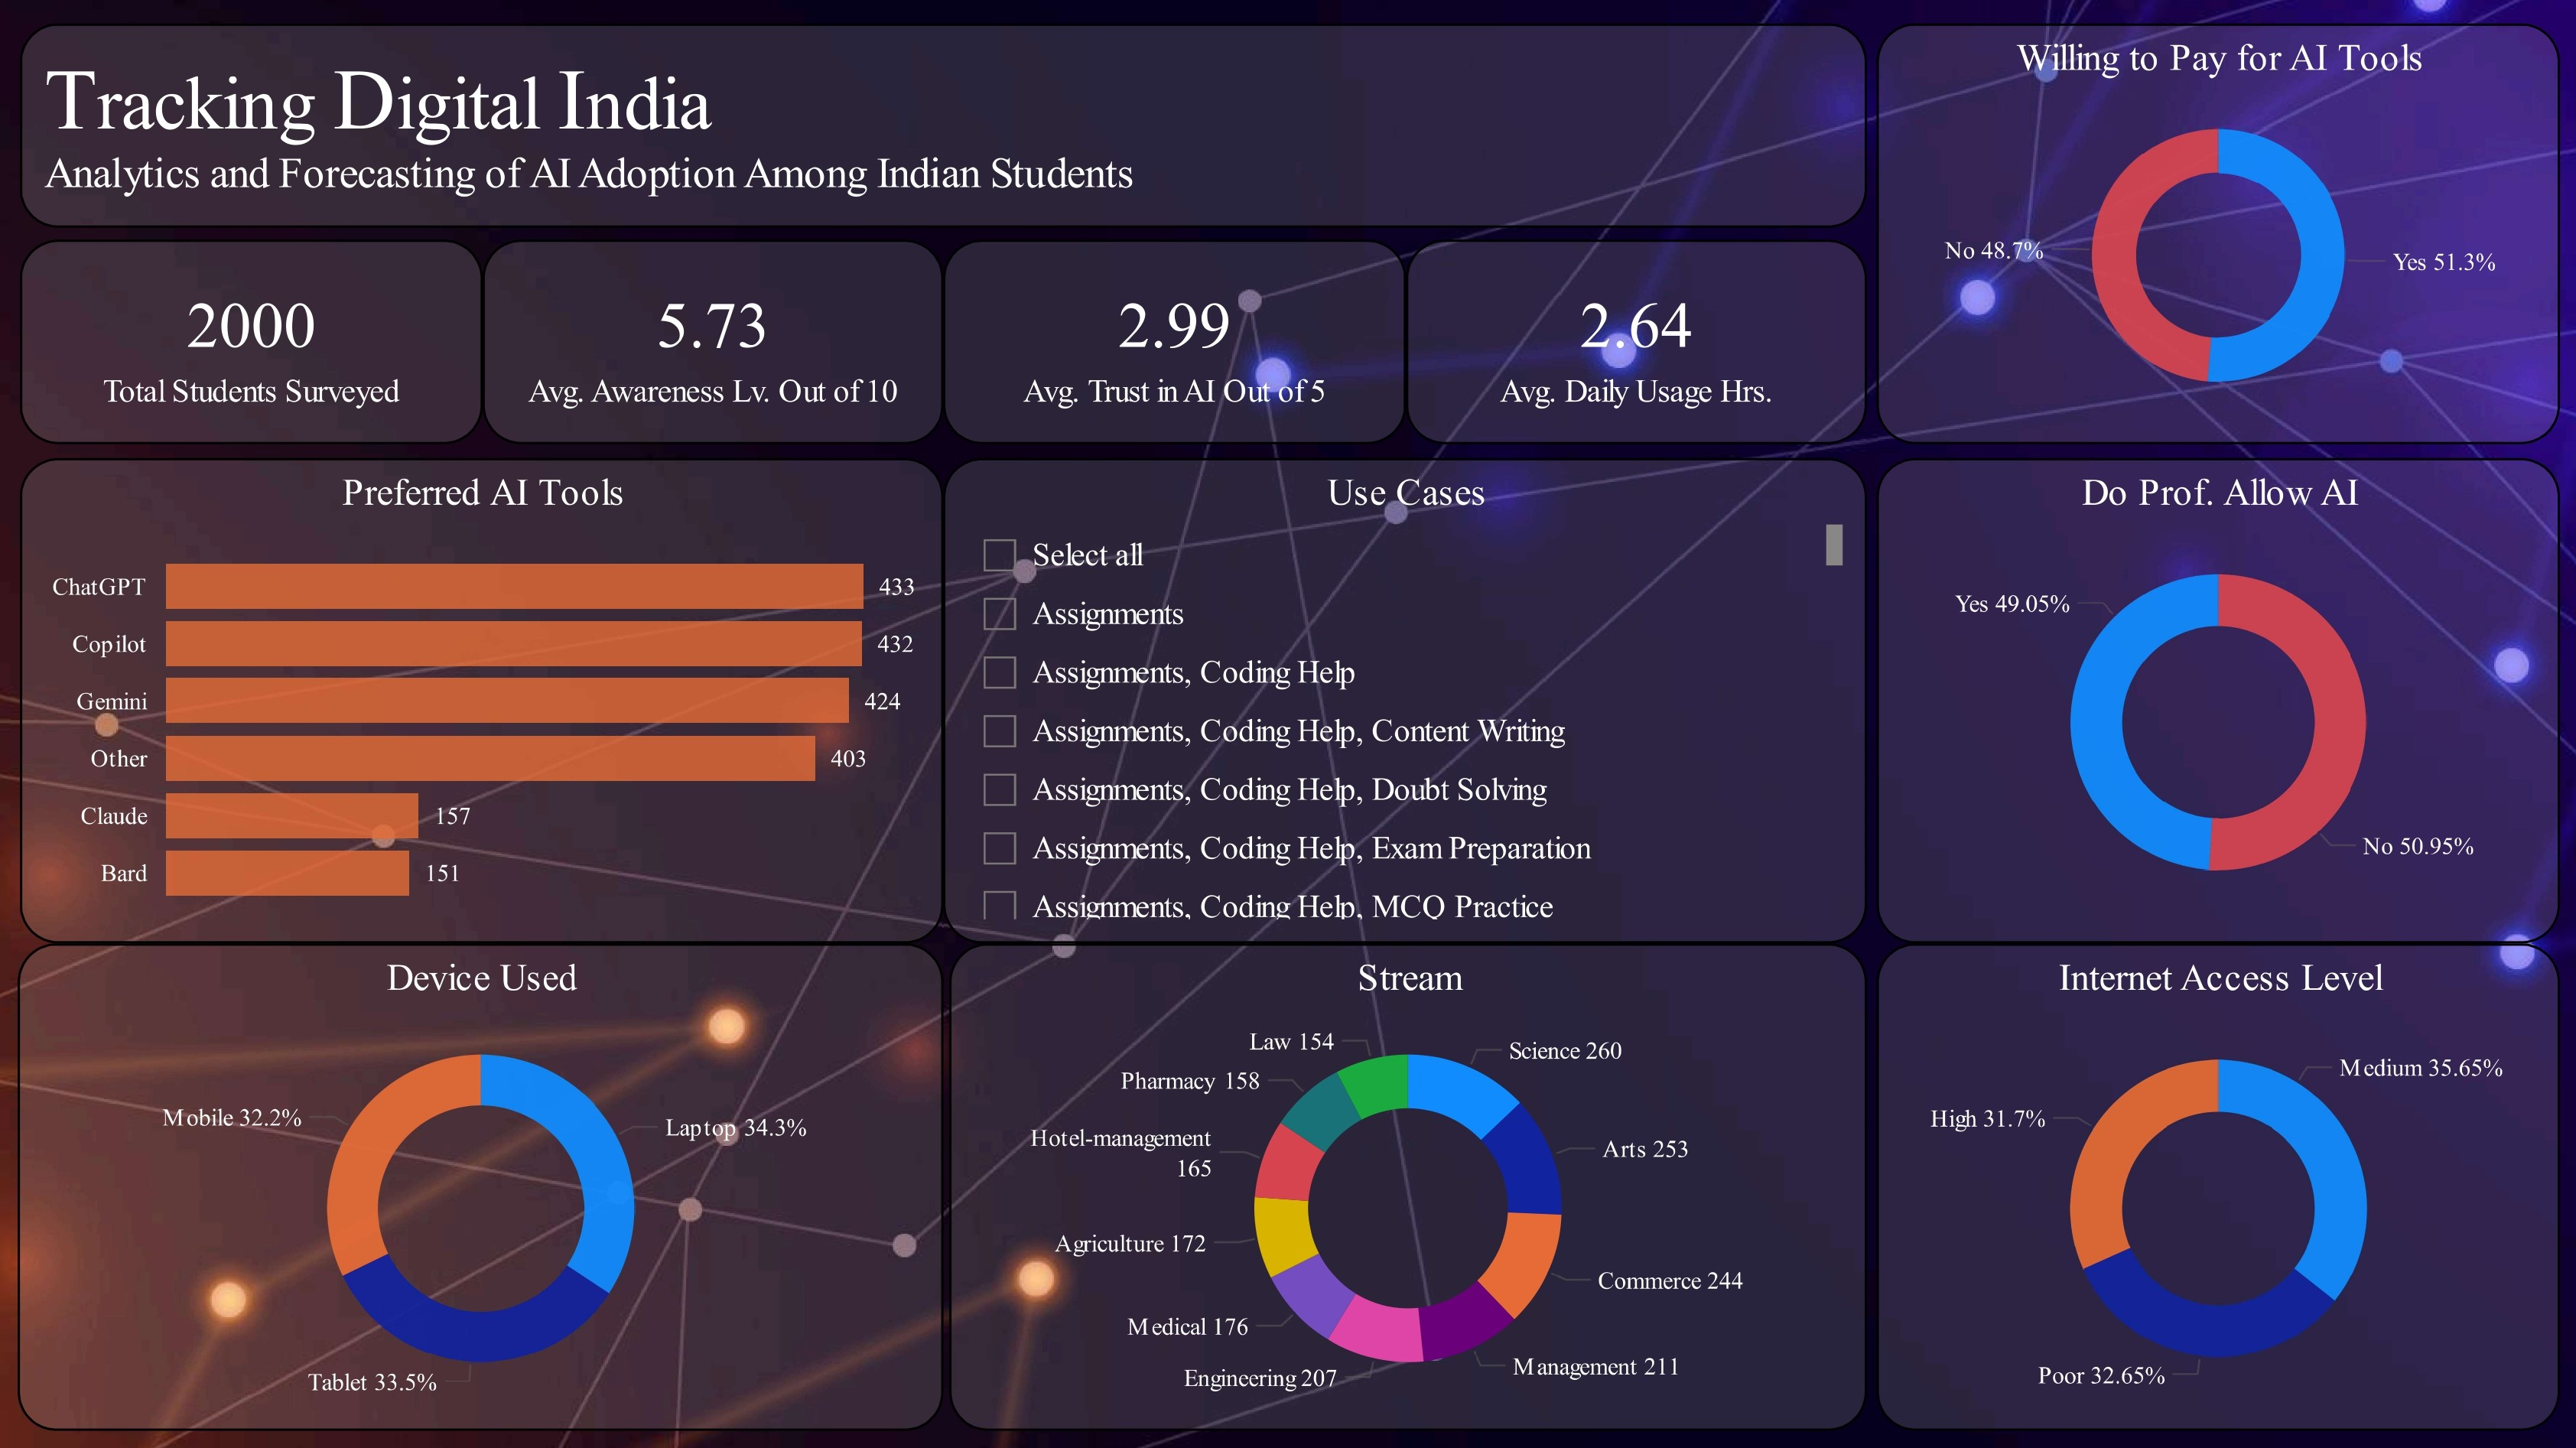

This screenshot's page, from the dashboard's own definition file:
{"tool":"powerbi","page":{"name":"Page 1","canvas":[1280,720],"ordinal":0},"visuals":[{"type":"textbox","box":[12,12.7,913.9,101.4],"z":0},{"type":"card","fields":{"Values":["Avg(Students.Awareness_Level)"]},"box":[241.2,119.6,227.8,101.4],"z":1000},{"type":"card","fields":{"Values":["Avg(Students.Daily_Usage_Hours)"]},"box":[698.1,119.6,227.8,101.4],"z":2000},{"type":"donutChart","title":"Internet Access Level","fields":{"Category":["Students.Internet_Access"],"Y":["CountNonNull(Students.Internet_Access)"]},"box":[931.4,468.2,337.5,240.3],"z":3000},{"type":"donutChart","title":"Device Used","fields":{"Y":["CountNonNull(Students.Device_Used)"],"Category":["Students.Device_Used"]},"box":[10.6,468.2,458.3,240.3],"z":4000},{"type":"barChart","title":"Preferred AI Tools","fields":{"Category":["Students.Preferred_AI_Tool"],"Y":["CountNonNull(Students.Preferred_AI_Tool)"]},"box":[12,228,456.9,240.3],"z":5000},{"type":"card","fields":{"Values":["CountNonNull(Students.Student_Name)"]},"box":[12,119.6,229.2,101.4],"z":6000},{"type":"card","fields":{"Values":["Avg(Students.Trust_in_AI_Tools)"]},"box":[468.9,119.6,229.2,101.4],"z":7000},{"type":"pieChart","title":"Do Prof. Allow AI","fields":{"Category":["Students.Do_Professors_Allow_Use"],"Y":["CountNonNull(Students.Do_Professors_Allow_Use)"]},"box":[931.4,228,337.5,240.3],"z":8000},{"type":"slicer","title":"Use Cases","fields":{"Values":["Students.Use_Cases"]},"box":[468.9,228,456.9,240.3],"z":9000},{"type":"donutChart","title":"Stream","fields":{"Category":["Students.Stream"],"Y":["CountNonNull(Students.Stream)"]},"box":[471.7,468.2,454.2,240.3],"z":10000},{"type":"pieChart","title":"Willing to Pay for AI Tools","fields":{"Category":["Students.Willing_to_Pay_for_Access"],"Y":["CountNonNull(Students.Willing_to_Pay_for_Access)"]},"box":[931.4,12.7,337.5,208.3],"z":11000}]}

Visuals, with their boxes in screenshot pixels (x1, y1, x2, y2), scaled from the page's 1280x720 canvas onto the 2576x1448 screenshot:
textbox: {"x1": 24, "y1": 25, "x2": 1863, "y2": 229}
card - Avg(Students.Awareness_Level): {"x1": 486, "y1": 240, "x2": 944, "y2": 444}
card - Avg(Students.Daily_Usage_Hours): {"x1": 1405, "y1": 240, "x2": 1863, "y2": 444}
"Internet Access Level" donutChart: {"x1": 1875, "y1": 942, "x2": 2554, "y2": 1425}
"Device Used" donutChart: {"x1": 21, "y1": 942, "x2": 944, "y2": 1425}
"Preferred AI Tools" barChart: {"x1": 24, "y1": 458, "x2": 944, "y2": 942}
card - CountNonNull(Students.Student_Name): {"x1": 24, "y1": 240, "x2": 486, "y2": 444}
card - Avg(Students.Trust_in_AI_Tools): {"x1": 944, "y1": 240, "x2": 1405, "y2": 444}
"Do Prof. Allow AI" pieChart: {"x1": 1875, "y1": 458, "x2": 2554, "y2": 942}
"Use Cases" slicer: {"x1": 944, "y1": 458, "x2": 1863, "y2": 942}
"Stream" donutChart: {"x1": 949, "y1": 942, "x2": 1863, "y2": 1425}
"Willing to Pay for AI Tools" pieChart: {"x1": 1875, "y1": 25, "x2": 2554, "y2": 444}
